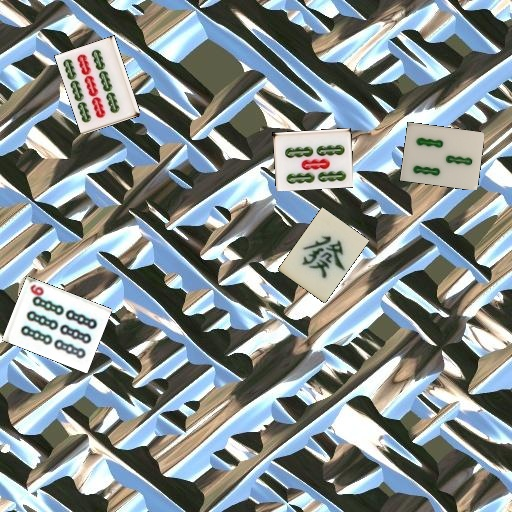bamboo-3: (399, 122, 484, 190)
bamboo-5: (272, 128, 353, 191)
bamboo-6: (2, 276, 112, 373)
bamboo-9: (54, 35, 140, 134)
honors-green: (278, 207, 369, 303)
